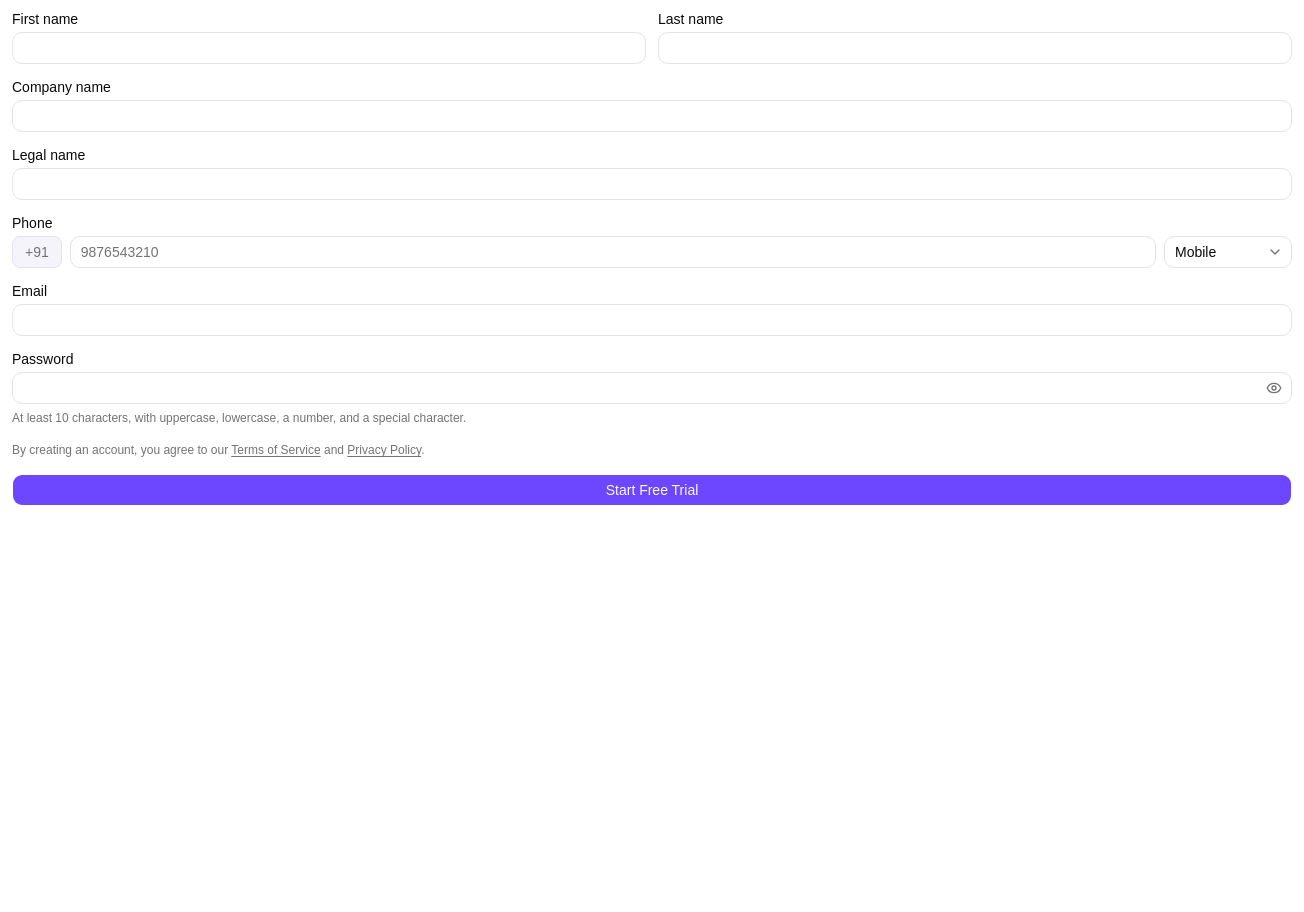
it: RegisterForm › shows validation errors for every required field when submitted empty
What coordinates should you click on to do the following:
click the button "Start Free Trial"
I would click on:
 (652, 490)
Its box is top-left (12, 474), bottom-right (1292, 506).
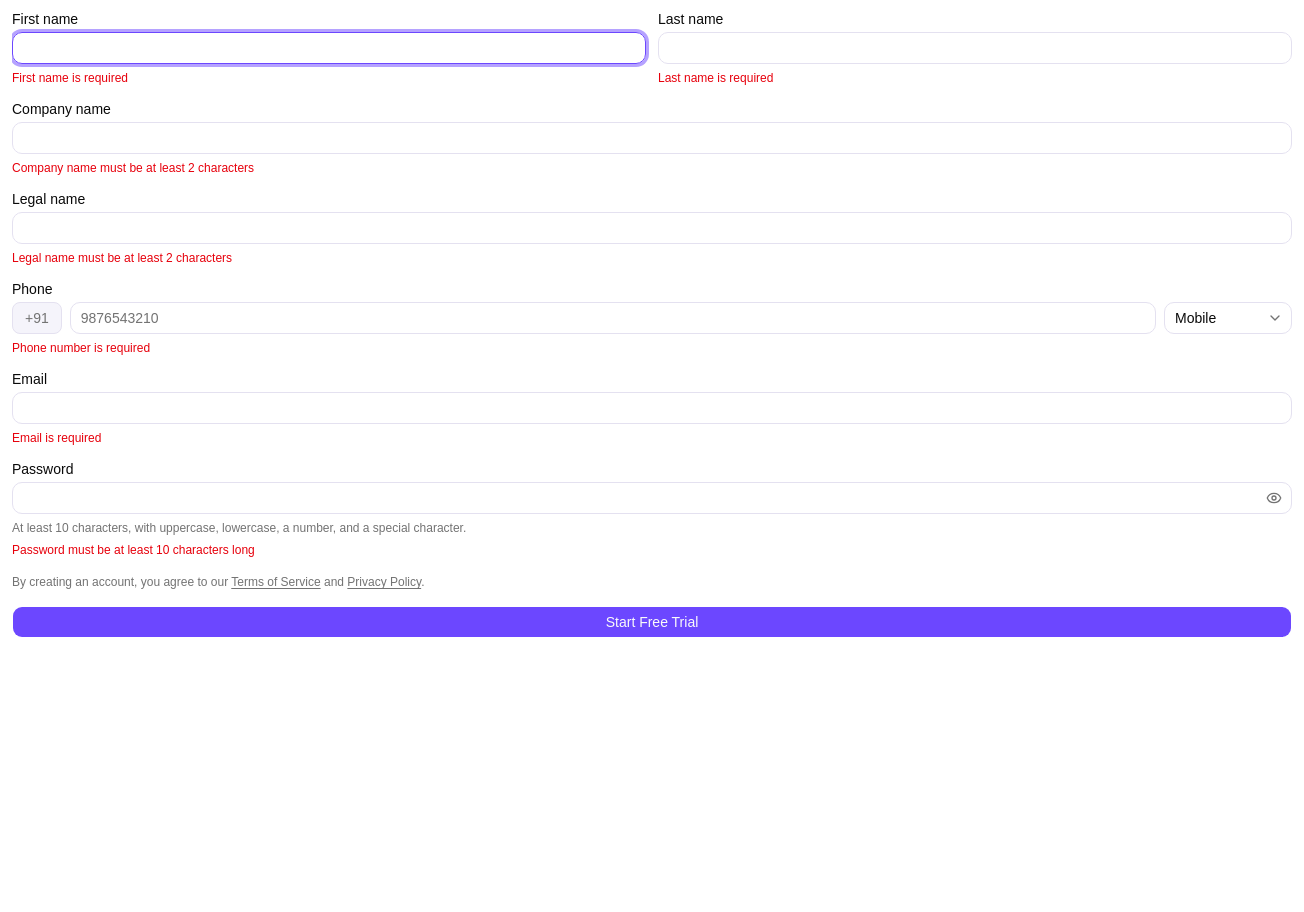
Now the text "First name is required" is shown, box top-left (12, 71), bottom-right (128, 85)
Now the text "Last name is required" is shown, box top-left (658, 71), bottom-right (773, 85)
Now the text "Company name must be at least 2 characters" is shown, box top-left (12, 161), bottom-right (254, 175)
